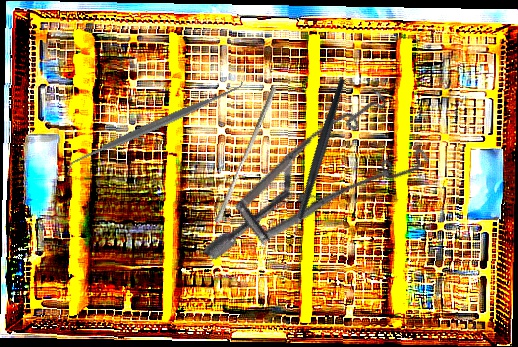Chopper: (242, 76, 399, 250)
Pusher: (214, 83, 277, 226)
Spatula Surgical: (60, 76, 250, 176)
Speculum: (202, 55, 447, 327)
